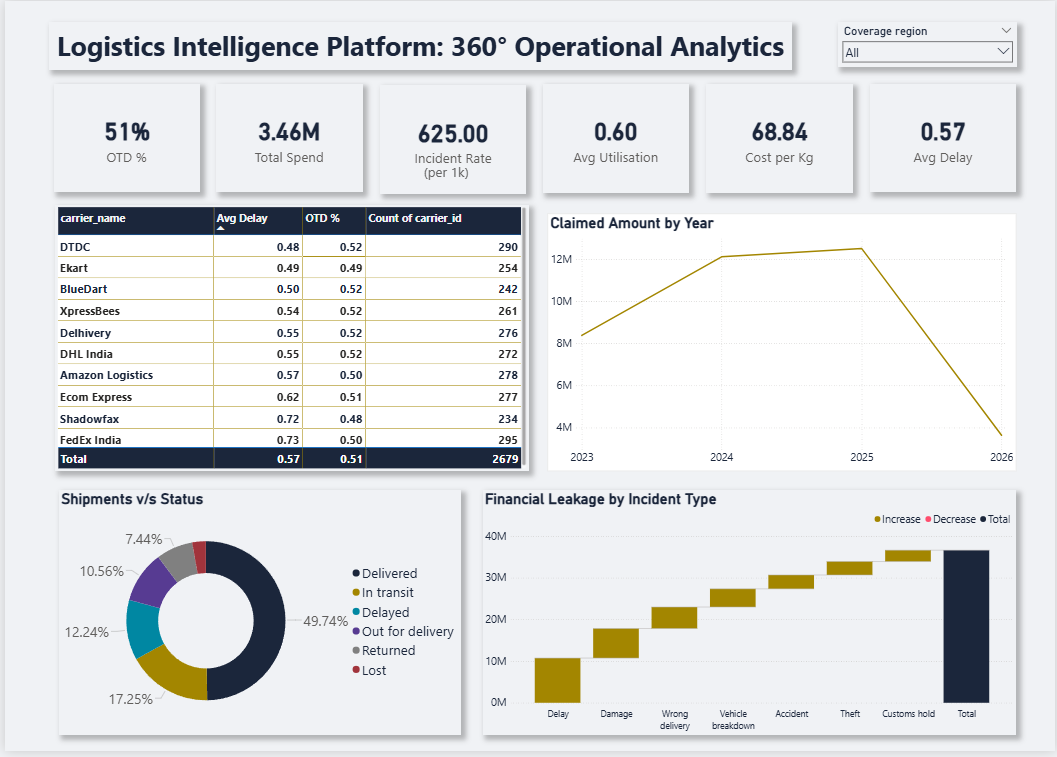

The dashboard page shown, as its layout file describes it:
{"tool":"powerbi","page":{"name":"Dashboard","canvas":[2100,1500],"ordinal":2},"visuals":[{"type":"waterfallChart","title":"Financial Leakage by Incident Type","fields":{"Category":["incidents.incident_type"],"Y":["Sum(incidents.claim_amount_inr)"]},"box":[955,977.5,1067.5,490],"z":0},{"type":"donutChart","title":"Shipments v/s Status","fields":{"Category":["shipments.shipment_status"],"Y":["CountNonNull(shipments.shipment_id)"]},"box":[107.5,977.5,805,490],"z":1000},{"type":"tableEx","fields":{"Values":["carriers.carrier_name","Calculated Table.Avg Delay","Calculated Table.OTD %","shipments.carrier_id"]},"box":[100,407.5,947.5,532.5],"z":2000},{"type":"textbox","box":[86.4,43.2,1486.4,95.5],"z":3000},{"type":"card","fields":{"Values":["Calculated Table.OTD %"]},"box":[96.4,164.3,292.5,217.5],"z":4000},{"type":"card","fields":{"Values":["Calculated Table.Total Spend"]},"box":[422.9,164.3,292.5,217.5],"z":5000},{"type":"card","fields":{"Values":["Calculated Table.Incident Rate"]},"box":[749.3,167.5,292.5,217.5],"z":6000},{"type":"slicer","fields":{"Values":["carriers.coverage_region"]},"box":[1665,42.5,360,90],"z":7000},{"type":"card","fields":{"Values":["Calculated Table.Avg Utilisation"]},"box":[1075.8,163.9,293.2,218.2],"z":8000},{"type":"card","fields":{"Values":["Calculated Table.Cost per Kg"]},"box":[1402.9,163.9,293.2,218.2],"z":9000},{"type":"card","fields":{"Values":["Calculated Table.Avg Delay"]},"box":[1730,165,292.5,217.5],"z":10000},{"type":"lineChart","title":"Claimed Amount by Year","fields":{"Category":["incidents.incident_date.Variation.Date Hierarchy.Year","incidents.incident_date.Variation.Date Hierarchy.Quarter","incidents.incident_date.Variation.Date Hierarchy.Month","incidents.incident_date.Variation.Date Hierarchy.Day"],"Y":["Sum(incidents.claim_amount_inr)"]},"box":[1085,425,937.5,515],"z":11000},{"type":"textbox","box":[832.5,317.5,125,65],"z":12000}]}

Visuals, with their boxes in screenshot pixels (x1, y1, x2, y2), scaled from the page's 2100x1500 canvas onto the 1057x757 screenshot:
"Financial Leakage by Incident Type" waterfallChart: [left=481, top=493, right=1018, bottom=741]
"Shipments v/s Status" donutChart: [left=54, top=493, right=459, bottom=741]
tableEx - carriers.carrier_name x Calculated Table.Avg Delay: [left=50, top=206, right=527, bottom=474]
textbox: [left=43, top=22, right=792, bottom=70]
card - Calculated Table.OTD %: [left=49, top=83, right=196, bottom=193]
card - Calculated Table.Total Spend: [left=213, top=83, right=360, bottom=193]
card - Calculated Table.Incident Rate: [left=377, top=85, right=524, bottom=194]
slicer - carriers.coverage_region: [left=838, top=21, right=1019, bottom=67]
card - Calculated Table.Avg Utilisation: [left=541, top=83, right=689, bottom=193]
card - Calculated Table.Cost per Kg: [left=706, top=83, right=854, bottom=193]
card - Calculated Table.Avg Delay: [left=871, top=83, right=1018, bottom=193]
"Claimed Amount by Year" lineChart: [left=546, top=214, right=1018, bottom=474]
textbox: [left=419, top=160, right=482, bottom=193]
